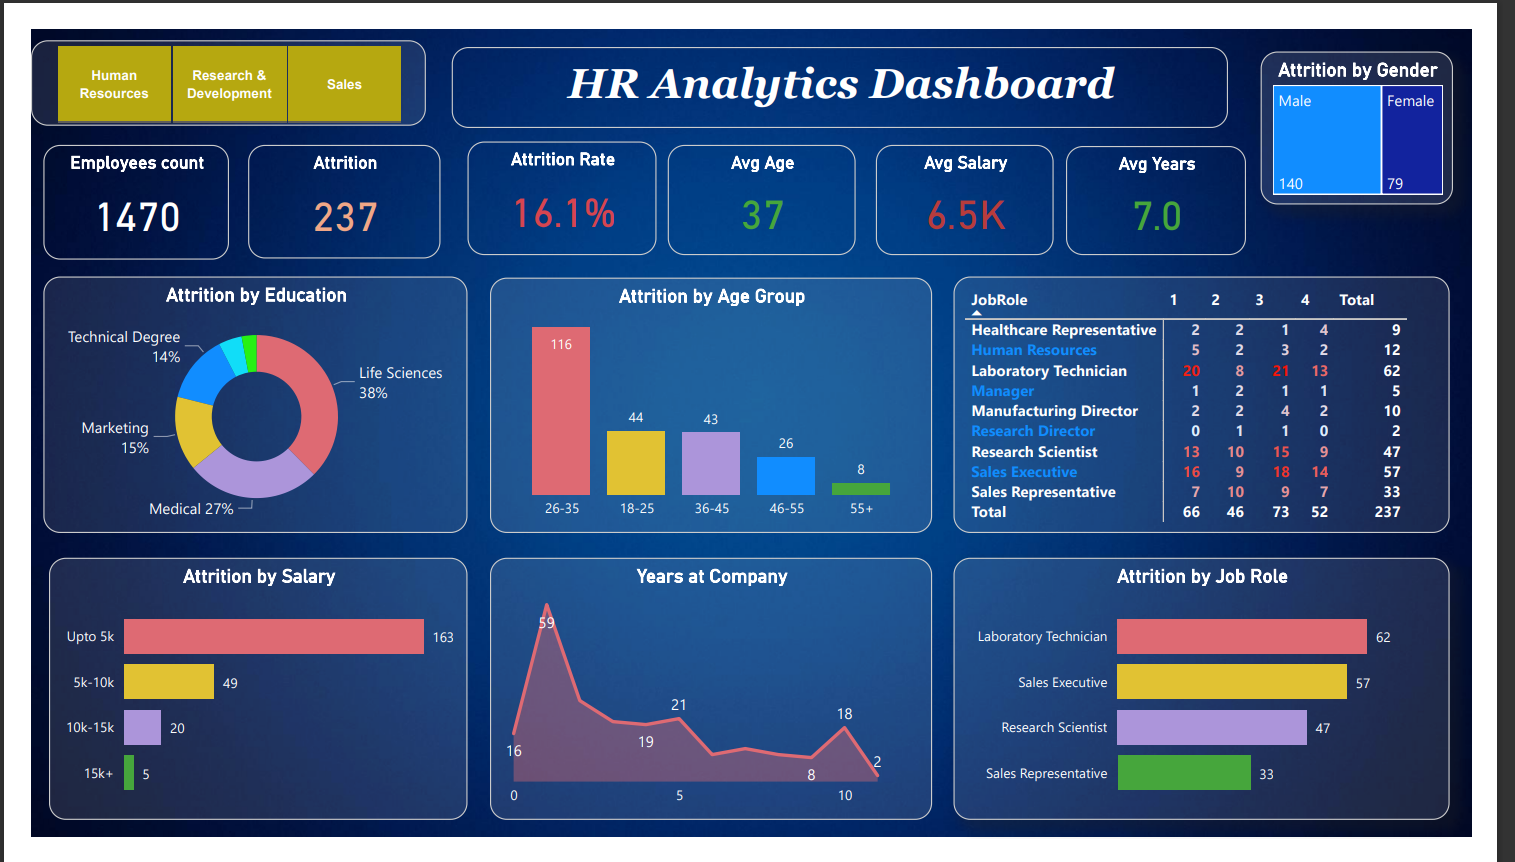

What the dashboard file says about the page in this screenshot:
{"tool":"powerbi","page":{"name":"Page 1","canvas":[1280,720],"ordinal":0},"visuals":[{"type":"card","title":"Employees count","fields":{"Values":["CountNonNull(HR_Analytics.EmpID)"]},"box":[11.2,102.5,165,102.5],"z":0},{"type":"card","title":"Attrition","fields":{"Values":["Sum(HR_Analytics.Attritionbool)"]},"box":[192.5,102.5,171.2,101.2],"z":1000},{"type":"card","title":"Avg Age","fields":{"Values":["Avg(HR_Analytics.Age)"]},"box":[566.2,102.5,166.2,98.8],"z":2000},{"type":"card","title":"Avg Years","fields":{"Values":["Avg(HR_Analytics.YearsAtCompany)"]},"box":[920,103.8,160,97.5],"z":3000},{"type":"card","title":"Avg Salary","fields":{"Values":["Avg(HR_Analytics.MonthlyIncome)"]},"box":[751.2,102.5,157.5,98.8],"z":4000},{"type":"card","title":"Attrition Rate","fields":{"Values":["created-measures.Measure"]},"box":[387.5,100,168.8,101.2],"z":5000},{"type":"donutChart","title":"Attrition by Education","fields":{"Category":["HR_Analytics.EducationField"],"Y":["Sum(HR_Analytics.Attritionbool)"]},"box":[11.2,220,376.2,227.5],"z":6000},{"type":"columnChart","title":"Attrition by Age Group","fields":{"Category":["HR_Analytics.AgeGroup"],"Y":["Sum(HR_Analytics.Attritionbool)"]},"box":[407.5,221.2,393.8,226.2],"z":7000},{"type":"pivotTable","fields":{"Rows":["HR_Analytics.JobRole"],"Columns":["HR_Analytics.JobSatisfaction"],"Values":["Sum(HR_Analytics.Attritionbool)"]},"box":[820,220,441.2,227.5],"z":8000},{"type":"clusteredBarChart","title":"Attrition by Salary","fields":{"Category":["HR_Analytics.SalarySlab"],"Y":["Sum(HR_Analytics.Attritionbool)"]},"box":[16.2,470,371.2,232.5],"z":9000},{"type":"barChart","title":"Attrition by Job Role","fields":{"Category":["HR_Analytics.JobRole"],"Y":["Sum(HR_Analytics.Attritionbool)"]},"box":[820,470,441.2,232.5],"z":10000},{"type":"areaChart","title":"Years at Company","fields":{"Category":["HR_Analytics.YearsAtCompany"],"Y":["Sum(HR_Analytics.Attritionbool)"]},"box":[407.5,470,393.8,232.5],"z":11000},{"type":"treemap","title":"Attrition by Gender","fields":{"Group":["HR_Analytics.Gender"],"Values":["Sum(HR_Analytics.Attritionbool)"]},"box":[1092.5,20,171.2,136.2],"z":12000},{"type":"slicer","fields":{"Values":["HR_Analytics.Department"]},"box":[0,10,351.2,76.2],"z":13000},{"type":"textbox","box":[373.8,16.2,690,71.2],"z":14000}]}

Visuals, with their boxes in screenshot pixels (x1, y1, x2, y2), scaled from the page's 1280x720 canvas onto the 1515x862 screenshot:
"Employees count" card: box=[13, 123, 209, 245]
"Attrition" card: box=[228, 123, 430, 244]
"Avg Age" card: box=[670, 123, 867, 241]
"Avg Years" card: box=[1089, 124, 1278, 241]
"Avg Salary" card: box=[889, 123, 1076, 241]
"Attrition Rate" card: box=[459, 120, 658, 241]
"Attrition by Education" donutChart: box=[13, 263, 459, 536]
"Attrition by Age Group" columnChart: box=[482, 265, 948, 536]
pivotTable - HR_Analytics.JobRole x HR_Analytics.JobSatisfaction: box=[971, 263, 1493, 536]
"Attrition by Salary" clusteredBarChart: box=[19, 563, 459, 841]
"Attrition by Job Role" barChart: box=[971, 563, 1493, 841]
"Years at Company" areaChart: box=[482, 563, 948, 841]
"Attrition by Gender" treemap: box=[1293, 24, 1496, 187]
slicer - HR_Analytics.Department: box=[0, 12, 416, 103]
textbox: box=[442, 19, 1259, 105]
